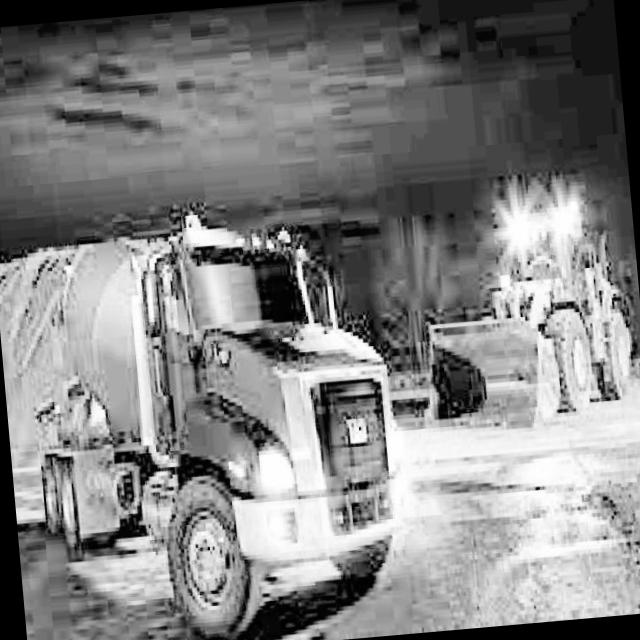Truck: (0, 195, 421, 640)
